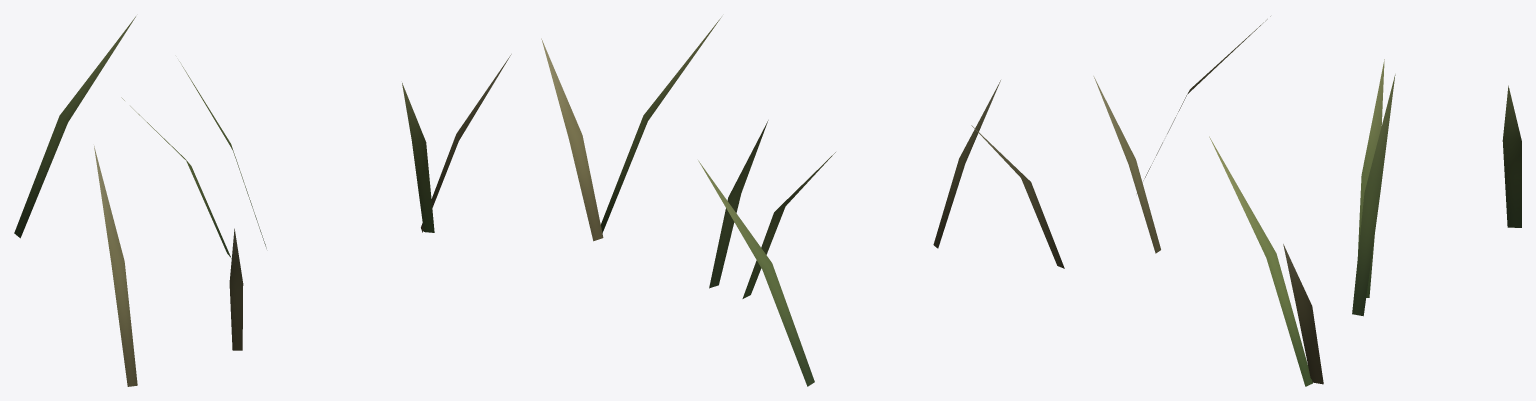
The model's file is meadow_dry_far.gltf.
The picture shows the model from 3 angles, left to right: view 1: azimuth 30°, elevation 25°; view 2: azimuth 150°, elevation 25°; view 3: azimuth 270°, elevation 25°; orthographic projection. The views are drawn at different scales.
Visible parts, largest first — view 1: meadow_dry_far; view 2: meadow_dry_far; view 3: meadow_dry_far.
Part boxes in pixels (left/top/right/bottom): meadow_dry_far: left=14, top=16, right=511, bottom=386; meadow_dry_far: left=541, top=17, right=1064, bottom=386; meadow_dry_far: left=1093, top=16, right=1521, bottom=386.
Size of the model in its own units: 1.04 by 0.4481 by 0.8212.
Materials: 3 (3 with a texture image).
